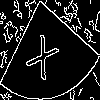X: (25, 25, 65, 82)
